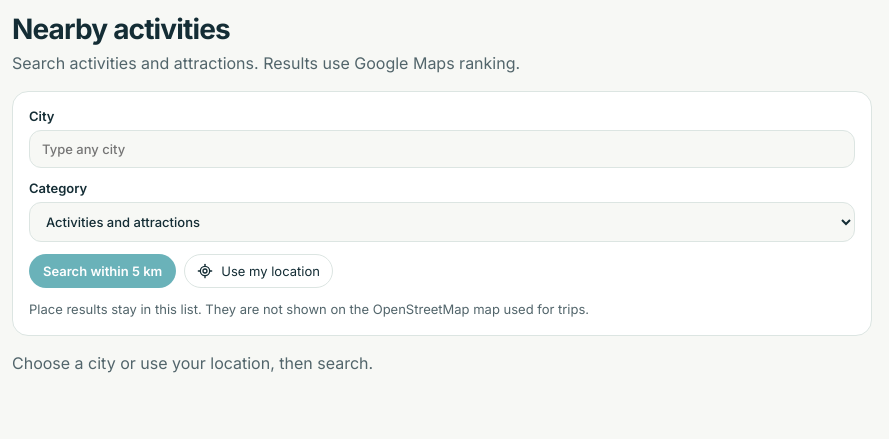
Test case: Explore interactions › keeps a denied location from searching and offers the city field
Click the button "Use my location": (259, 271) [184,254,333,288]
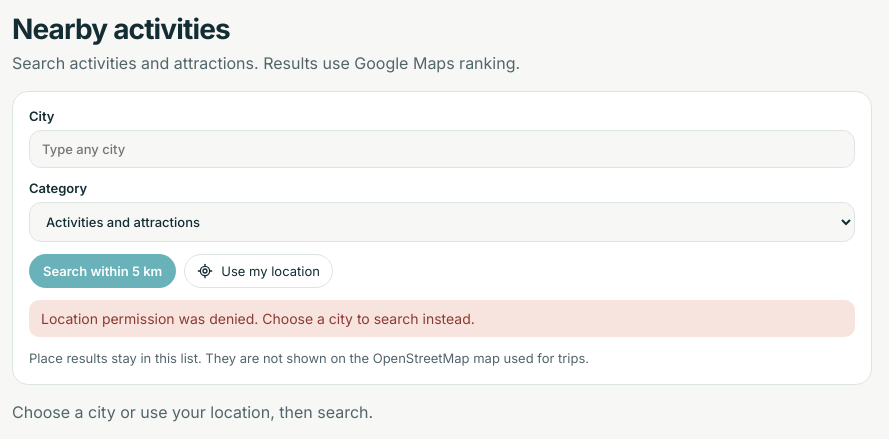
Expected: the text "Choose a city" is shown, [41,310,475,327]
Expected: the text "Location permission was denied" is shown, [41,310,475,327]
